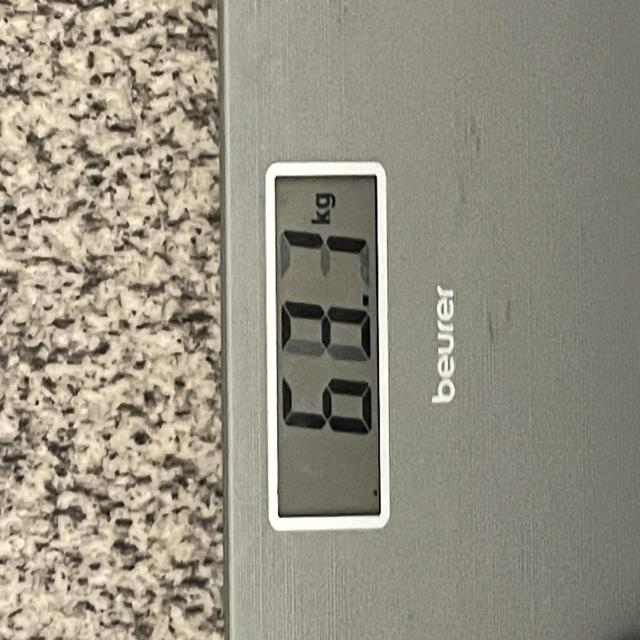ws: (219, 0, 640, 640)
